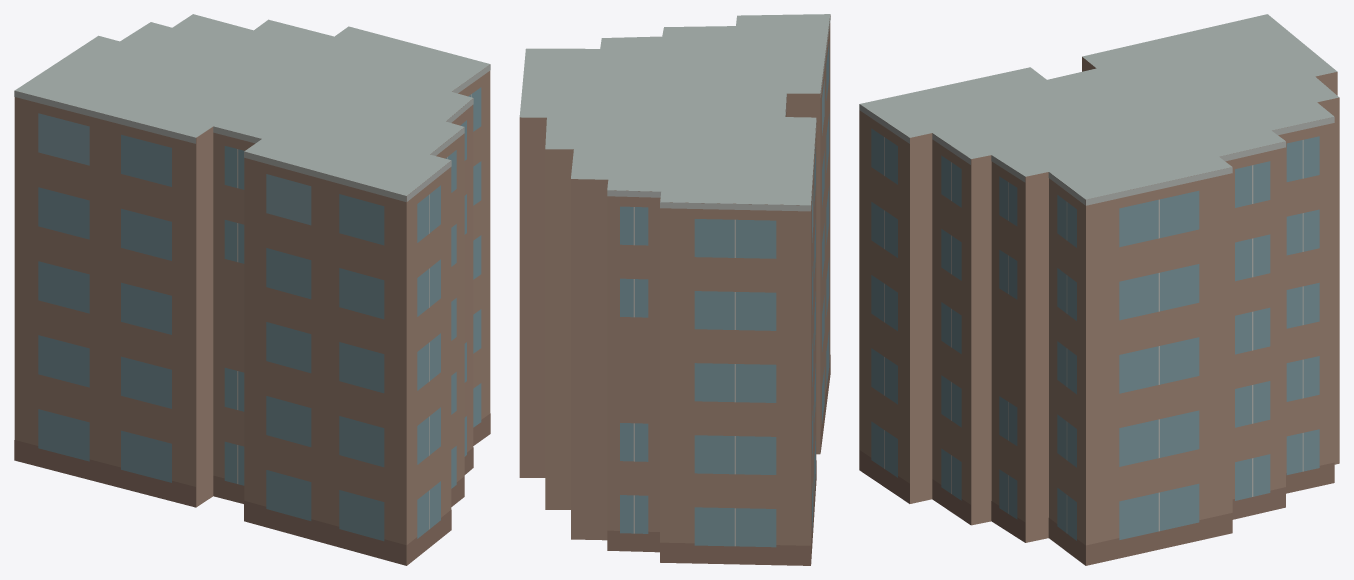
The model's file is survey-upis-33028356.glb.
3 renders of one model, left to right at view 1: azimuth 30°, elevation 25°; view 2: azimuth 150°, elevation 25°; view 3: azimuth 270°, elevation 25°, orthographic. The views are drawn at different scales.
Parts seen in each view (by area): view 1: survey-upis-33028356.tmp; view 2: survey-upis-33028356.tmp; view 3: survey-upis-33028356.tmp.
Part boxes in pixels (<box>): survey-upis-33028356.tmp: <box>14,14,490,565</box>; survey-upis-33028356.tmp: <box>519,14,830,565</box>; survey-upis-33028356.tmp: <box>859,14,1339,565</box>.
Bounding box in the file's own units: 15.77 × 14.5 × 17.24.
